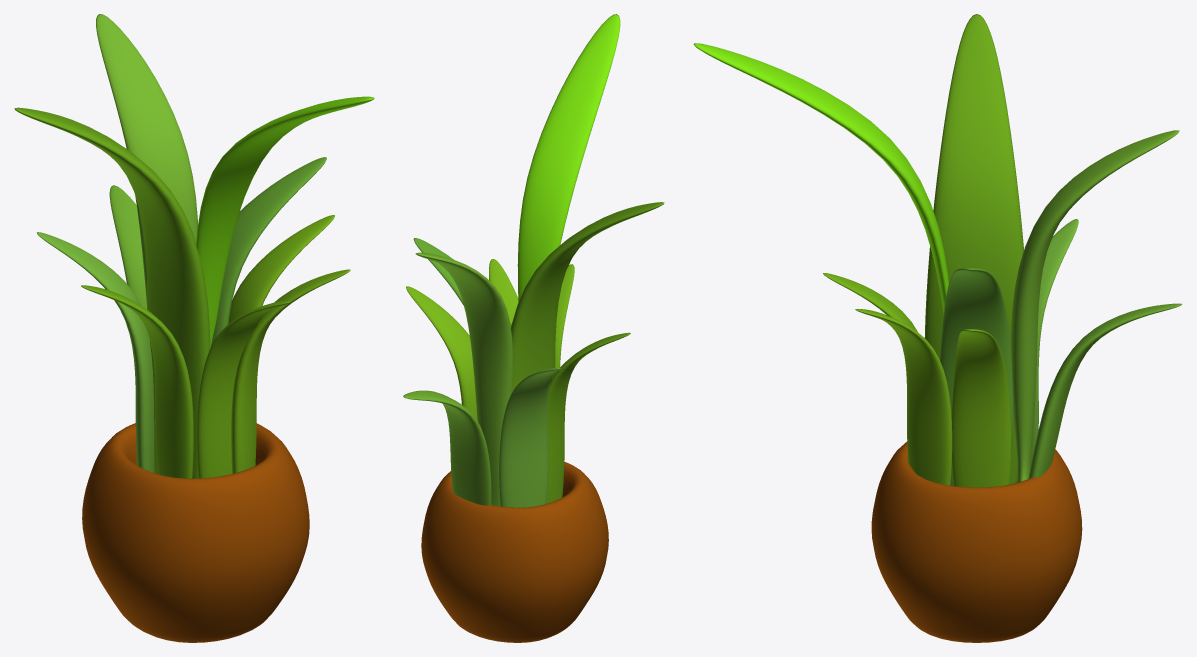
The model's file is vazo de plantas.fbx.
3 views of the same model, side by side, from view 1: azimuth 30°, elevation 25°; view 2: azimuth 150°, elevation 25°; view 3: azimuth 270°, elevation 25° (orthographic). The views are drawn at different scales.
Visible parts, largest first — view 1: Cube.002; view 2: Cube.002; view 3: Cube.002.
Part boxes in pixels (x1,y1,x2,y2): Cube.002: (14, 14, 374, 642); Cube.002: (403, 14, 664, 642); Cube.002: (693, 14, 1182, 642).
Size of the model in its own units: 346 by 655 by 490.
